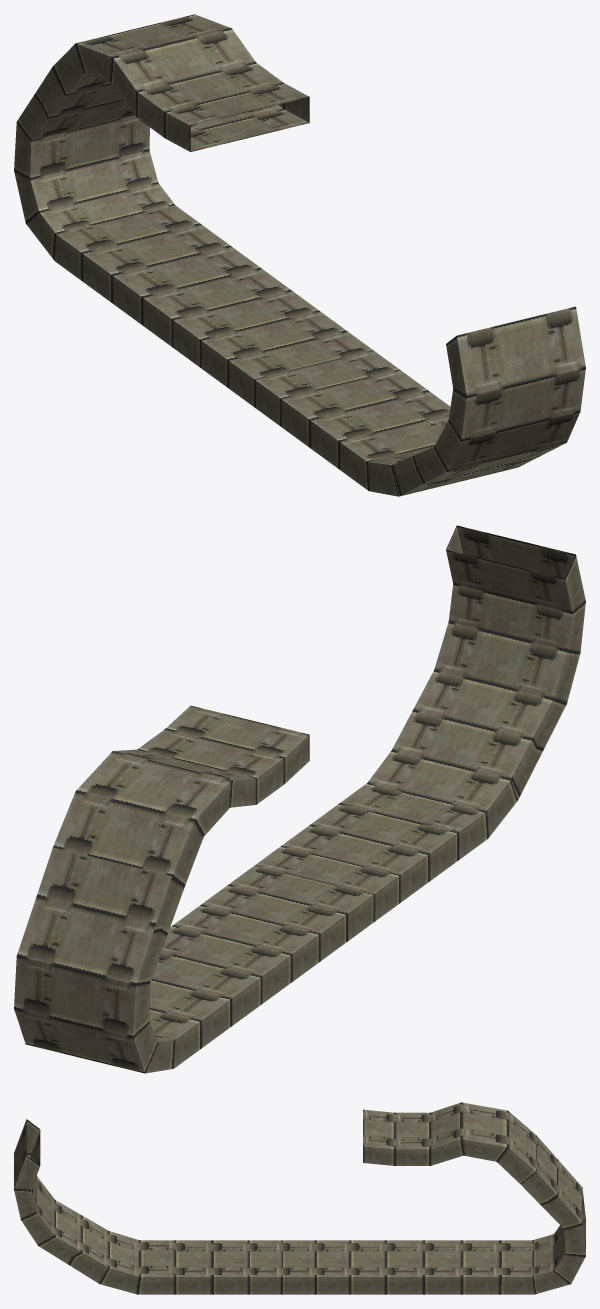
File: VWFLTNKH_TRAC_R.obj
3 views of the same model, one above another, from view 1: azimuth 30°, elevation 25°; view 2: azimuth 150°, elevation 25°; view 3: azimuth 270°, elevation 25° (orthographic). The views are drawn at different scales.
Parts seen in each view (by area): view 1: Node 0; view 2: Node 0; view 3: Node 0.
Boxes of the visible parts, x1,y1,x2,y2 form: Node 0: [14, 14, 585, 496]; Node 0: [14, 525, 585, 1073]; Node 0: [14, 1102, 585, 1294].
Bounding box in the file's own units: 0.76 × 1.5 × 5.
Materials: 1 (1 with a texture image).
